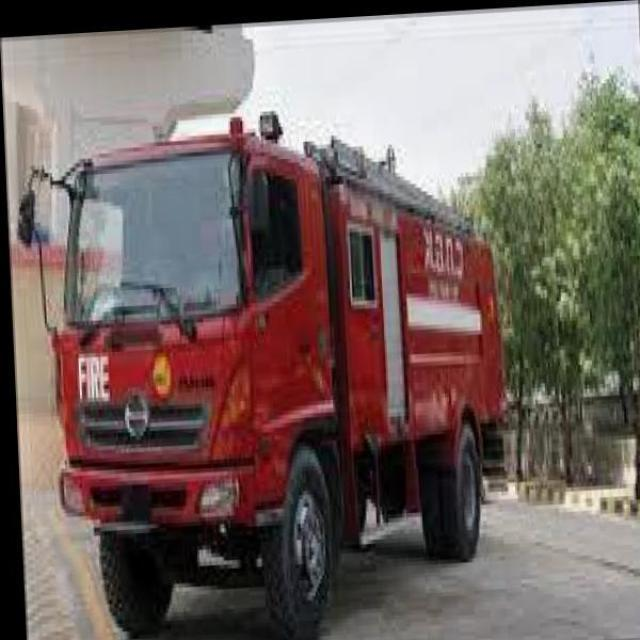emergency: (19, 109, 508, 637)
